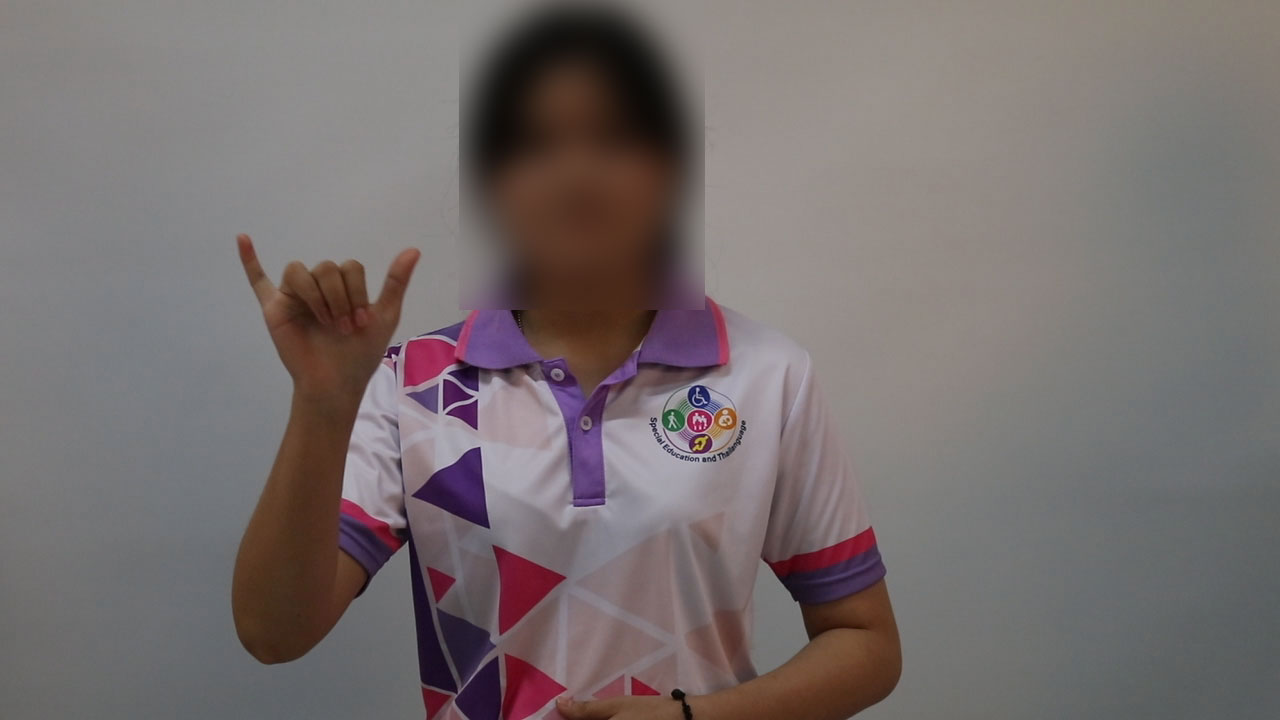yor: (222, 236, 437, 418)
